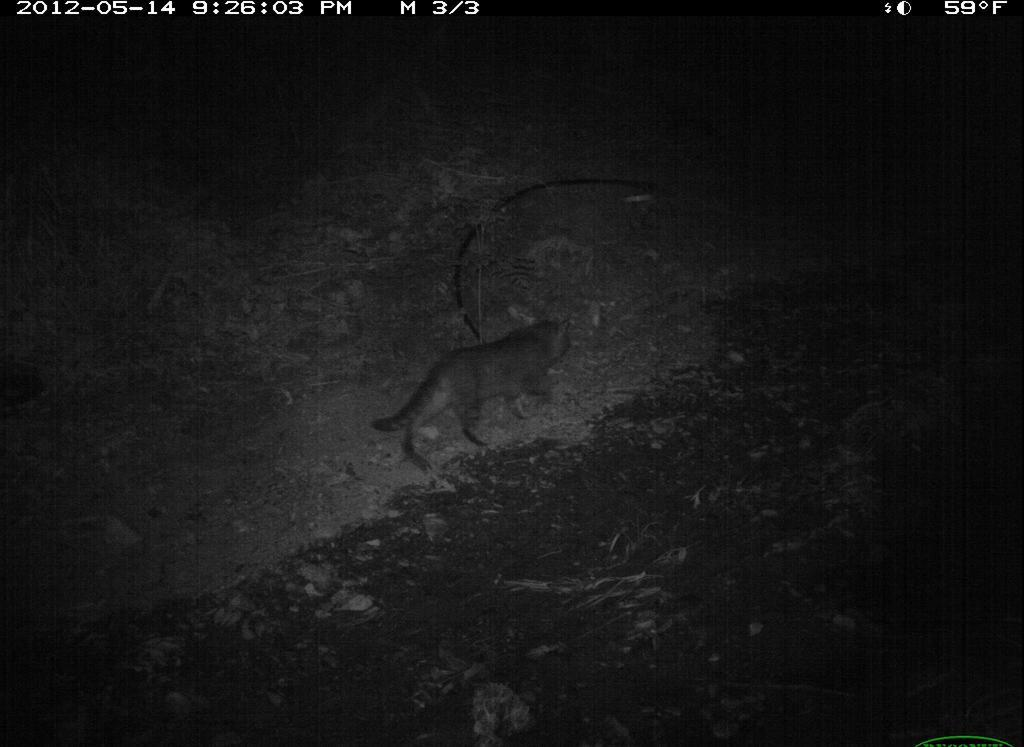cat: (349, 301, 615, 482)
